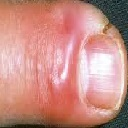Cellulitis: (39, 33, 85, 112)
